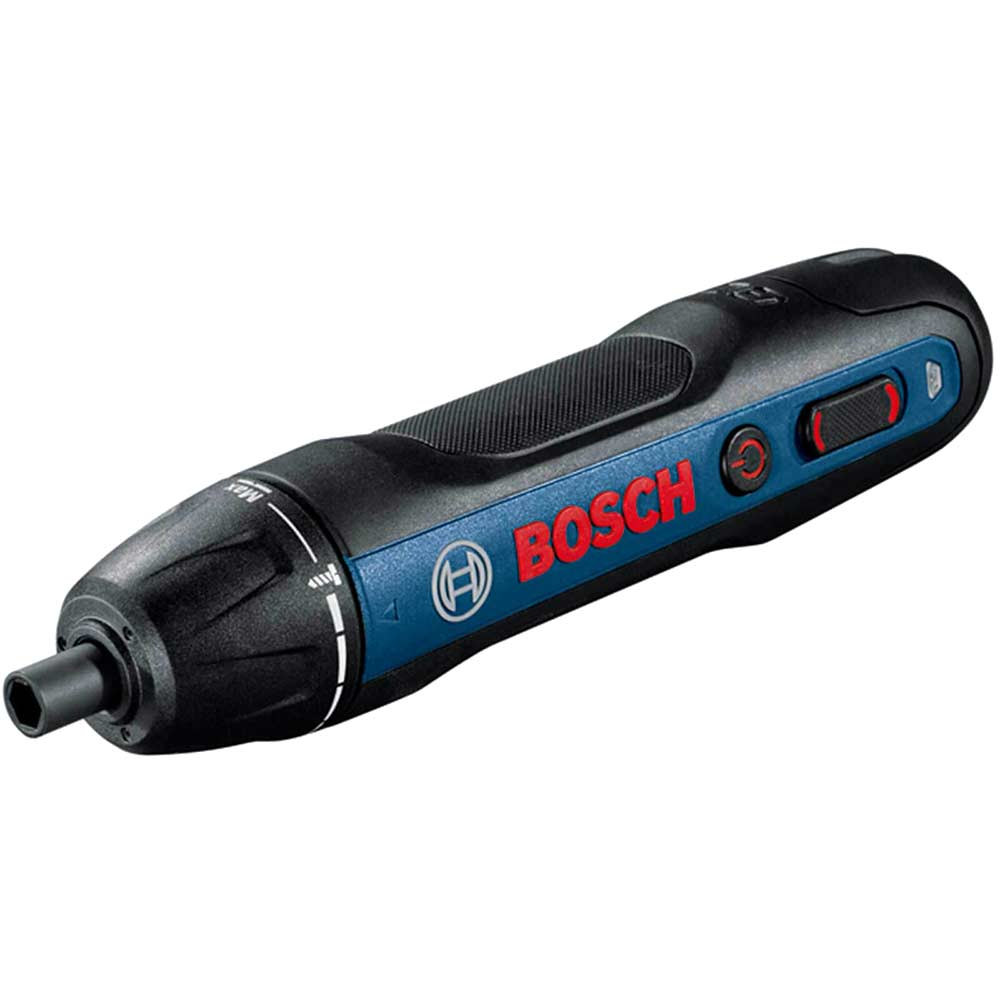screwdriver: (1, 243, 993, 757)
